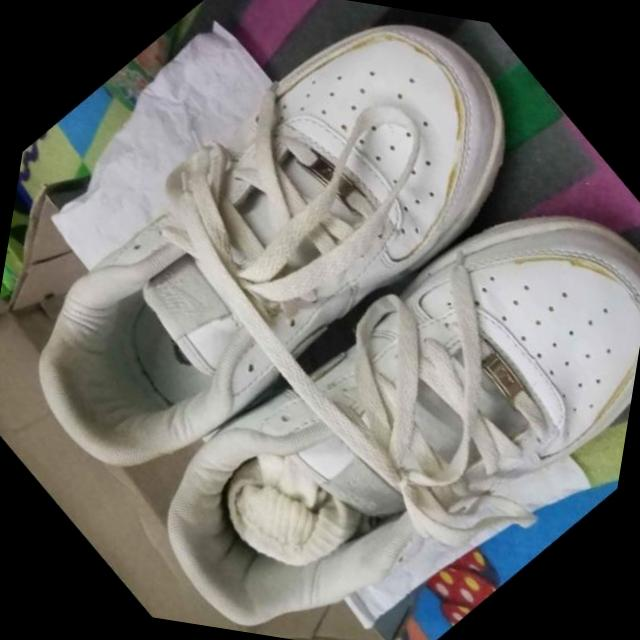nike_fake_airforce: (0, 0, 576, 571), (95, 82, 640, 640)
